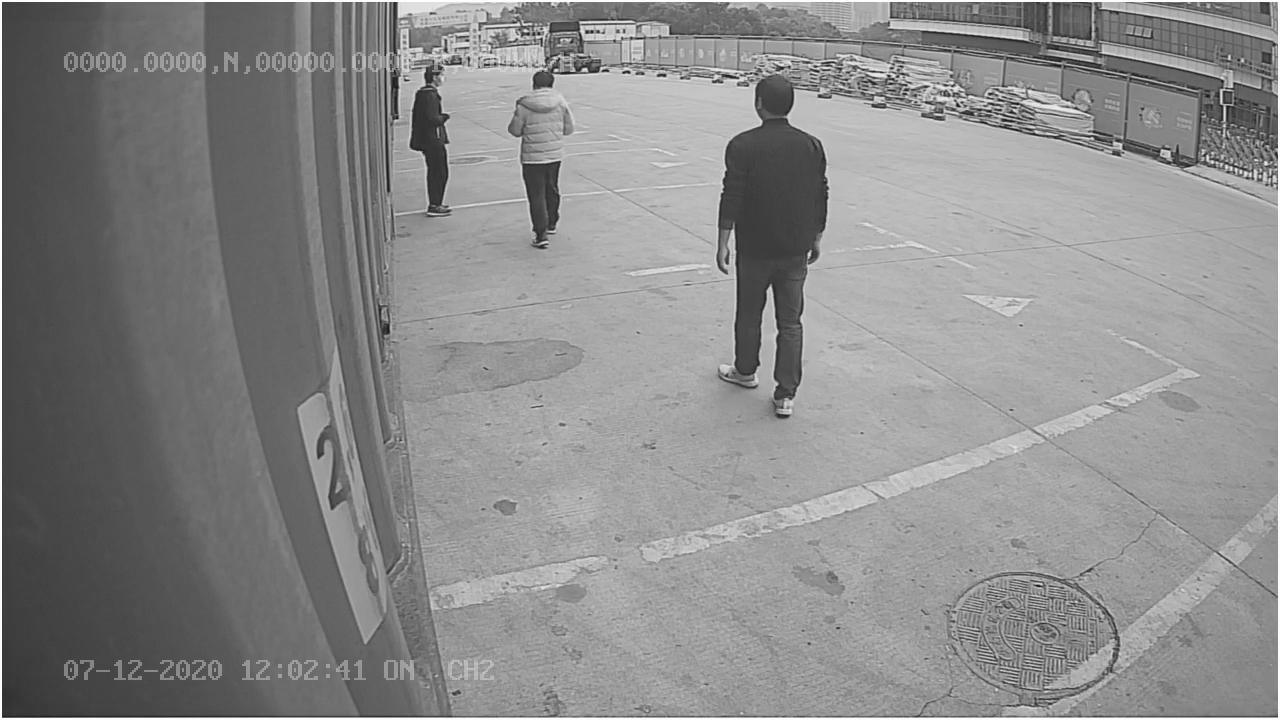person: (715, 73, 832, 422)
